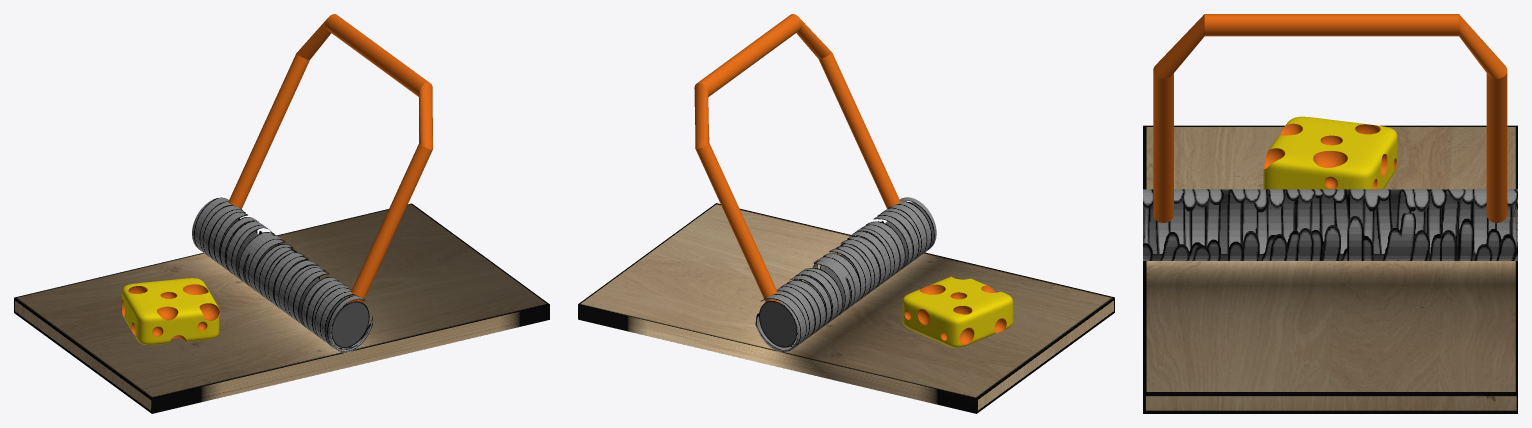
The model's file is Mousetrap.fbx.
3 views of the same model, side by side, from view 1: azimuth 30°, elevation 25°; view 2: azimuth 150°, elevation 25°; view 3: azimuth 270°, elevation 25° (orthographic). The views are drawn at different scales.
Parts seen in each view (by area): view 1: Cylinder.003, Cylinder.001, Cylinder.002; view 2: Cylinder.003, Cylinder.001, Cylinder.002; view 3: Cylinder.003, Cylinder.001, Cylinder.002.
Part boxes in pixels (bbox=[...]): Cylinder.003: bbox=[14, 203, 549, 413]; Cylinder.001: bbox=[192, 14, 432, 352]; Cylinder.002: bbox=[122, 278, 219, 344]; Cylinder.003: bbox=[578, 203, 1114, 413]; Cylinder.001: bbox=[694, 14, 936, 352]; Cylinder.002: bbox=[902, 276, 1013, 347]; Cylinder.003: bbox=[1143, 125, 1517, 413]; Cylinder.001: bbox=[1143, 14, 1517, 260]; Cylinder.002: bbox=[1263, 116, 1397, 189].
Size of the model in its own units: 602 by 354 by 361.
4 materials, 2 textured.
